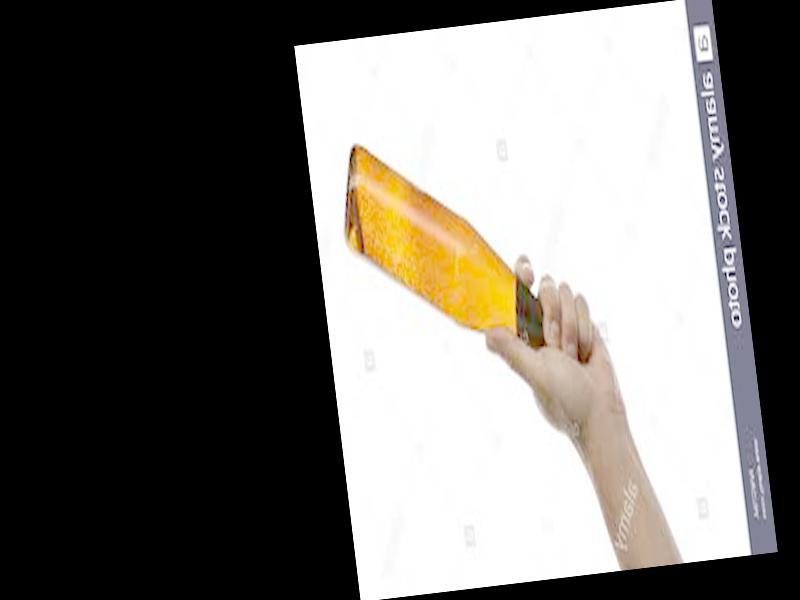Beer: (331, 119, 588, 385)
